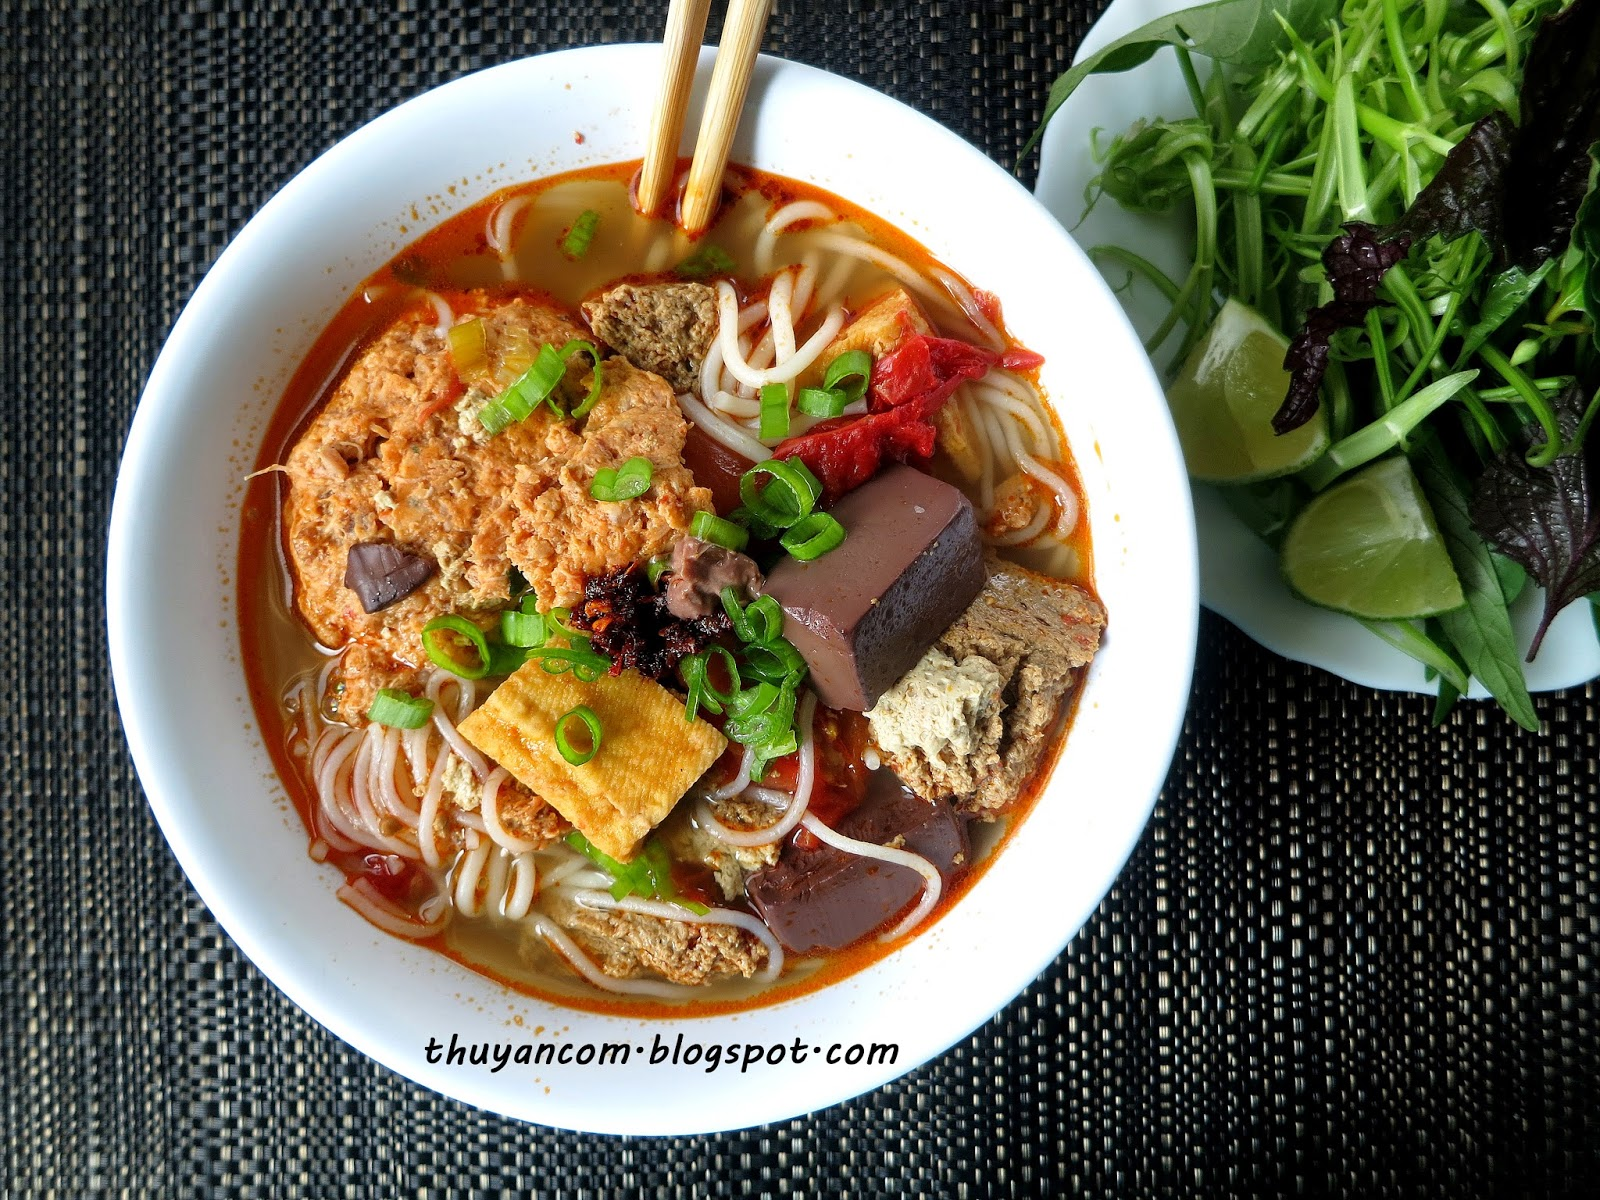rieu: (296, 303, 540, 579), (425, 382, 675, 589), (891, 584, 1111, 807), (296, 566, 475, 700)
tofu: (466, 645, 732, 829)
